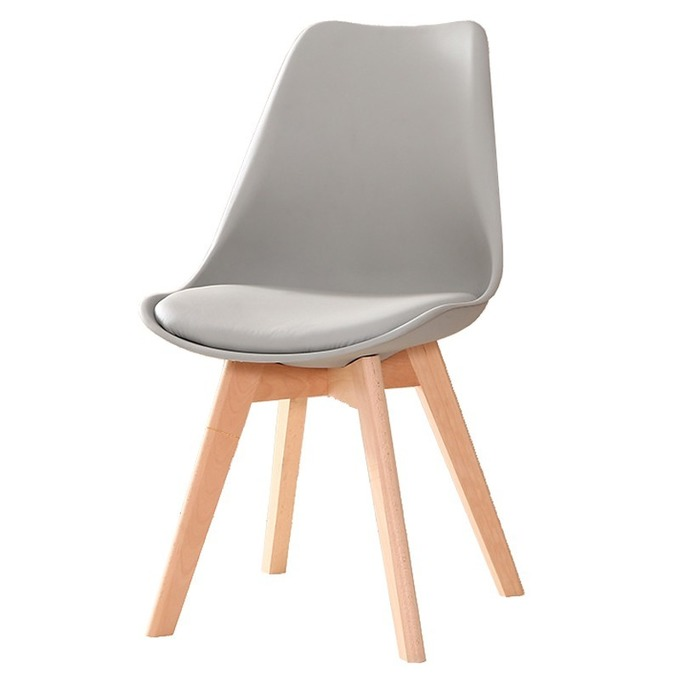seat: (138, 17, 568, 666)
